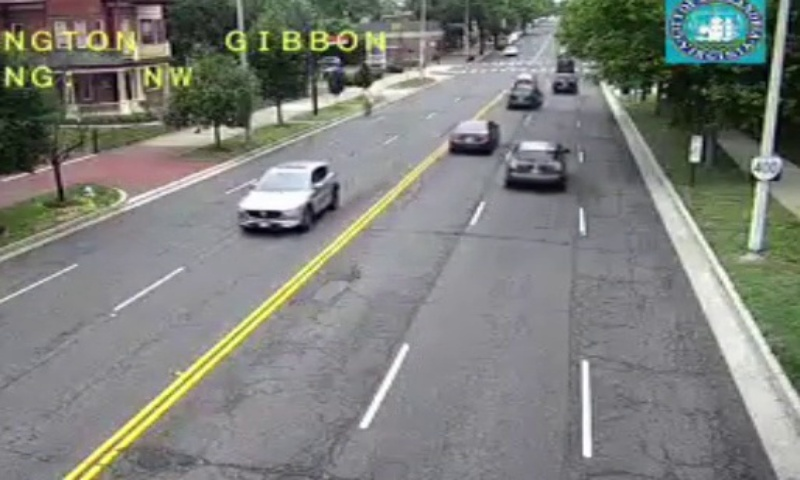car: (505, 141, 563, 183), (448, 120, 498, 148), (505, 87, 536, 109)
